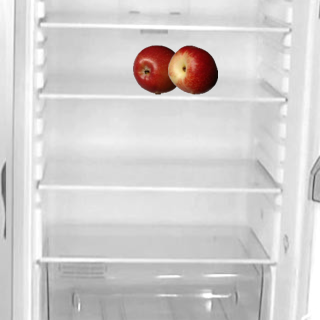Apple Braeburn: (132, 44, 182, 94)
Nectarine: (167, 44, 217, 94)
